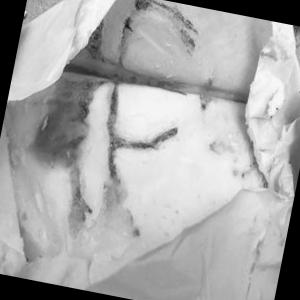butter: (0, 35, 286, 298)
